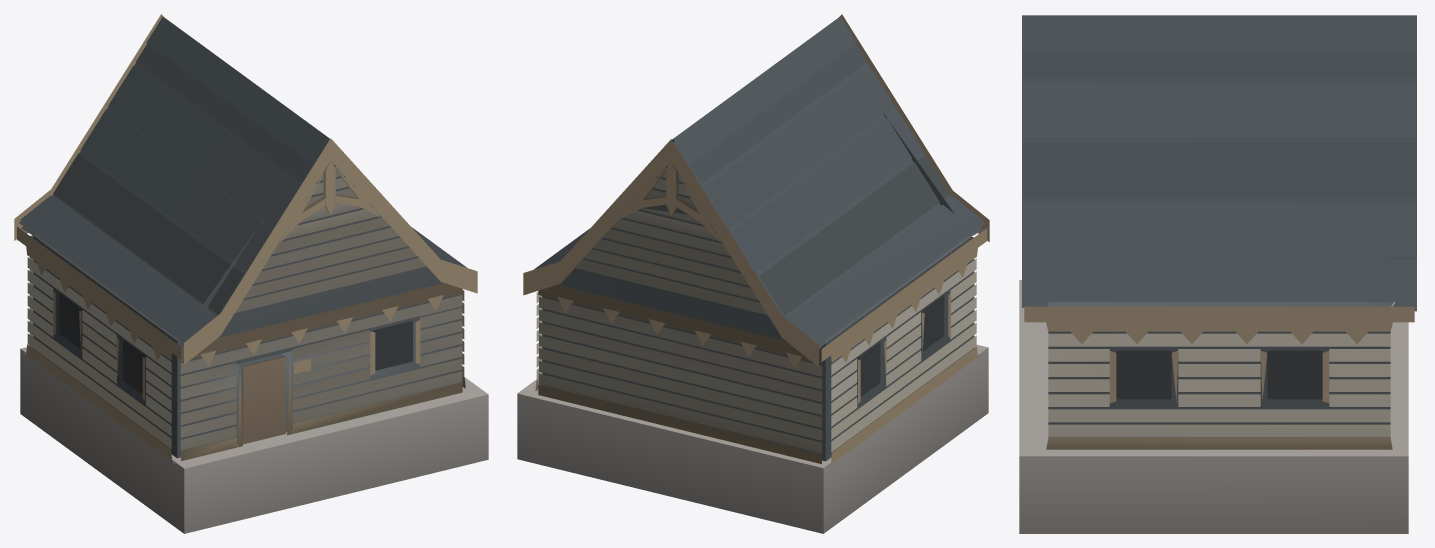
The model's file is cottage.lod.glb.
3 views of the same model, side by side, from view 1: azimuth 30°, elevation 25°; view 2: azimuth 150°, elevation 25°; view 3: azimuth 270°, elevation 25° (orthographic). The views are drawn at different scales.
Parts seen in each view (by area): view 1: cottage; view 2: cottage; view 3: cottage.
Part boxes in pixels (x1,y1,x2,y2): cottage: [14, 14, 488, 533]; cottage: [517, 14, 989, 533]; cottage: [1019, 15, 1416, 533].
Bounding box in the file's own units: 7.48 × 8.45 × 7.2.
